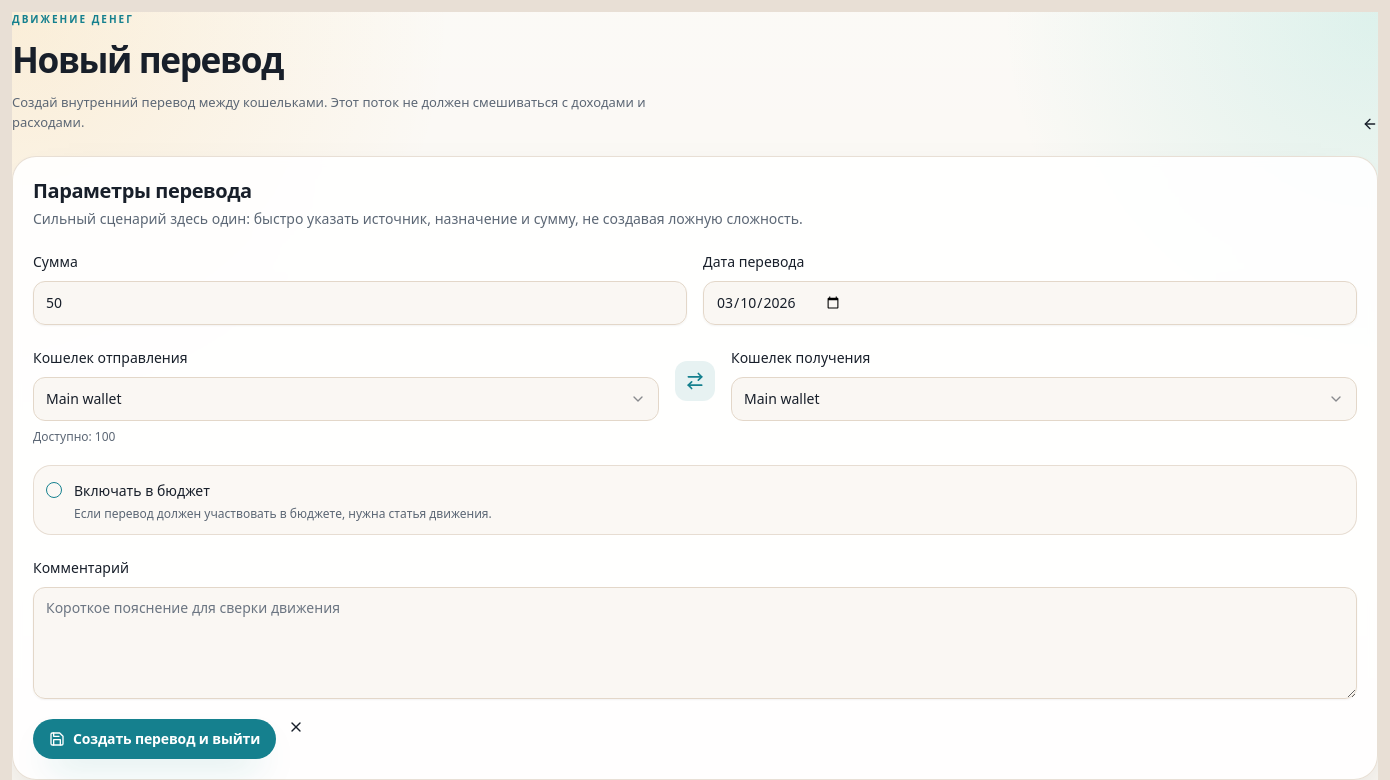
Test: shared forms › blocks a transfer when source and destination wallets are the same
The width and height of the screenshot is (1390, 780).
Click the button "Создать перевод и выйти" at [155, 739], box x1=33 y1=719 x2=276 y2=759
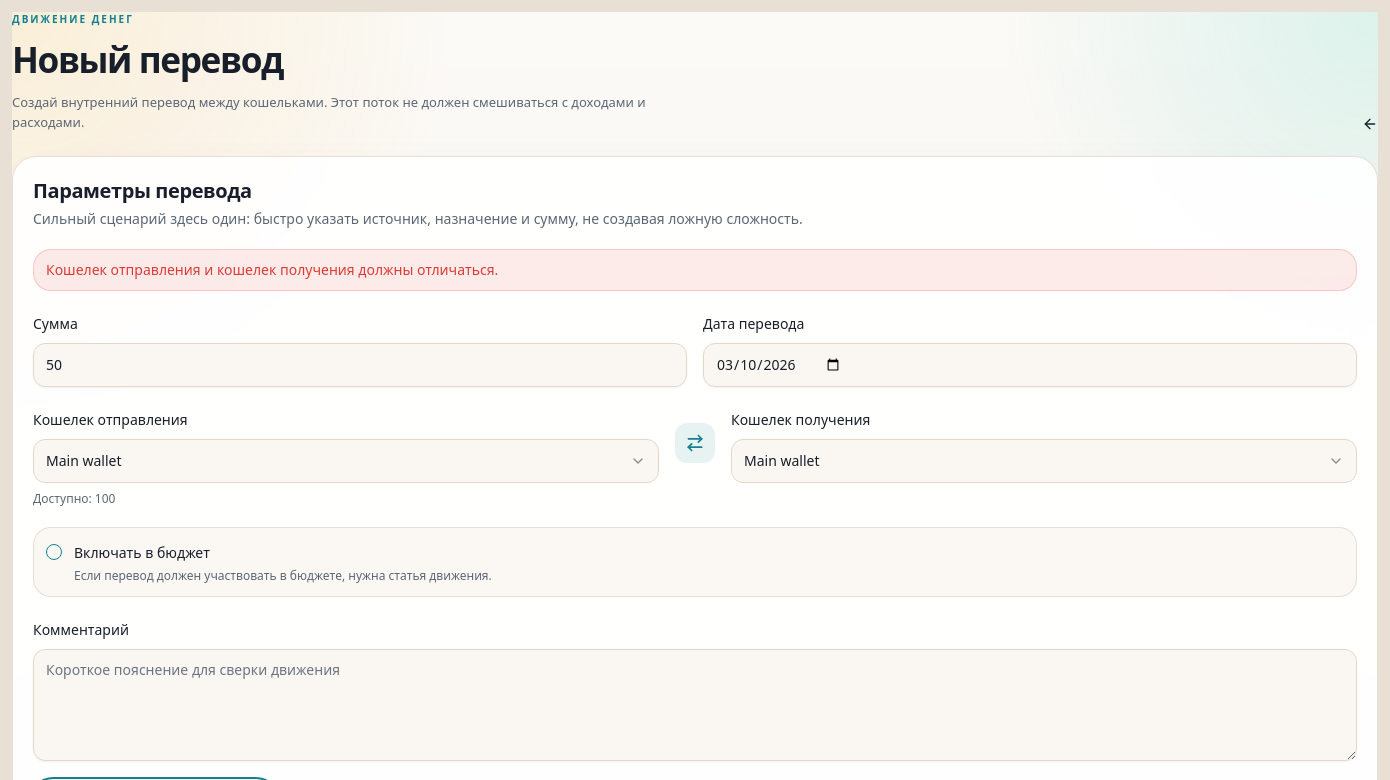
Expected: the text "Кошелек отправления и кошелек получения должны отличаться." is shown, x1=33 y1=249 x2=1357 y2=291
